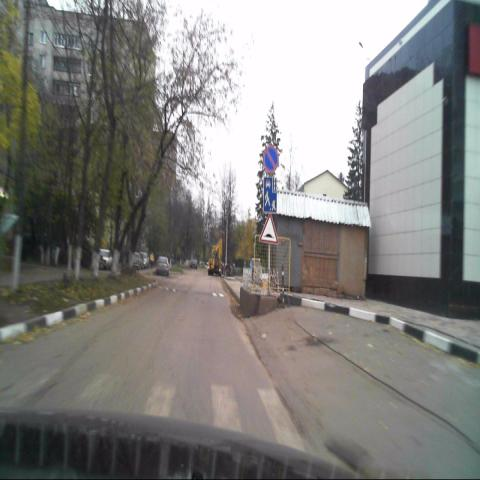1_17: (260, 213, 278, 244)
3_28: (263, 147, 279, 173)
5_21: (263, 176, 277, 212)
